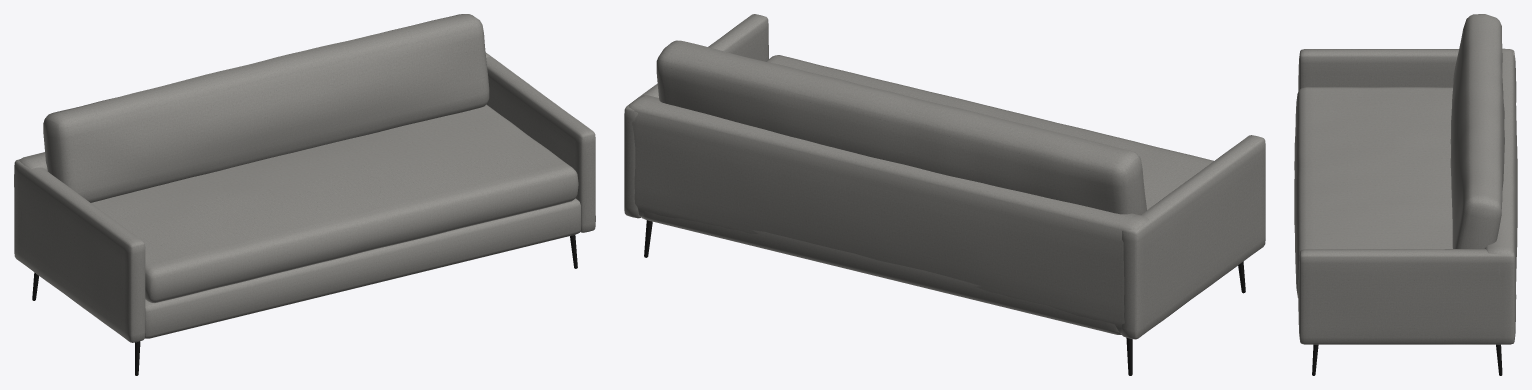
The model's file is sofa_brazo_fino_3p.glb.
3 renders of one model, left to right at view 1: azimuth 30°, elevation 25°; view 2: azimuth 150°, elevation 25°; view 3: azimuth 270°, elevation 25°, orthographic. The views are drawn at different scales.
Parts seen in each view (by area): view 1: sofa_brazo_fino_3p; view 2: sofa_brazo_fino_3p; view 3: sofa_brazo_fino_3p.
Part boxes in pixels (x1=…): sofa_brazo_fino_3p: x1=14, y1=14, x2=595, y2=375; sofa_brazo_fino_3p: x1=624, y1=14, x2=1265, y2=375; sofa_brazo_fino_3p: x1=1294, y1=14, x2=1517, y2=375.
Size of the model in its own units: 2 by 0.7863 by 0.9109.
Materials: 2 (1 with a texture image).
